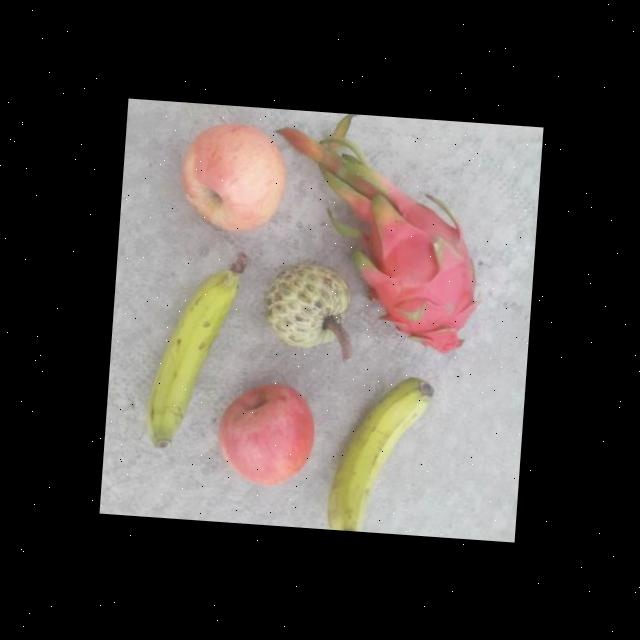Sakya fruit: (258, 258, 352, 354)
apple: (171, 120, 289, 238), (212, 378, 318, 490)
banana: (132, 245, 248, 467), (322, 370, 436, 536)
pitaya: (352, 198, 484, 360)
